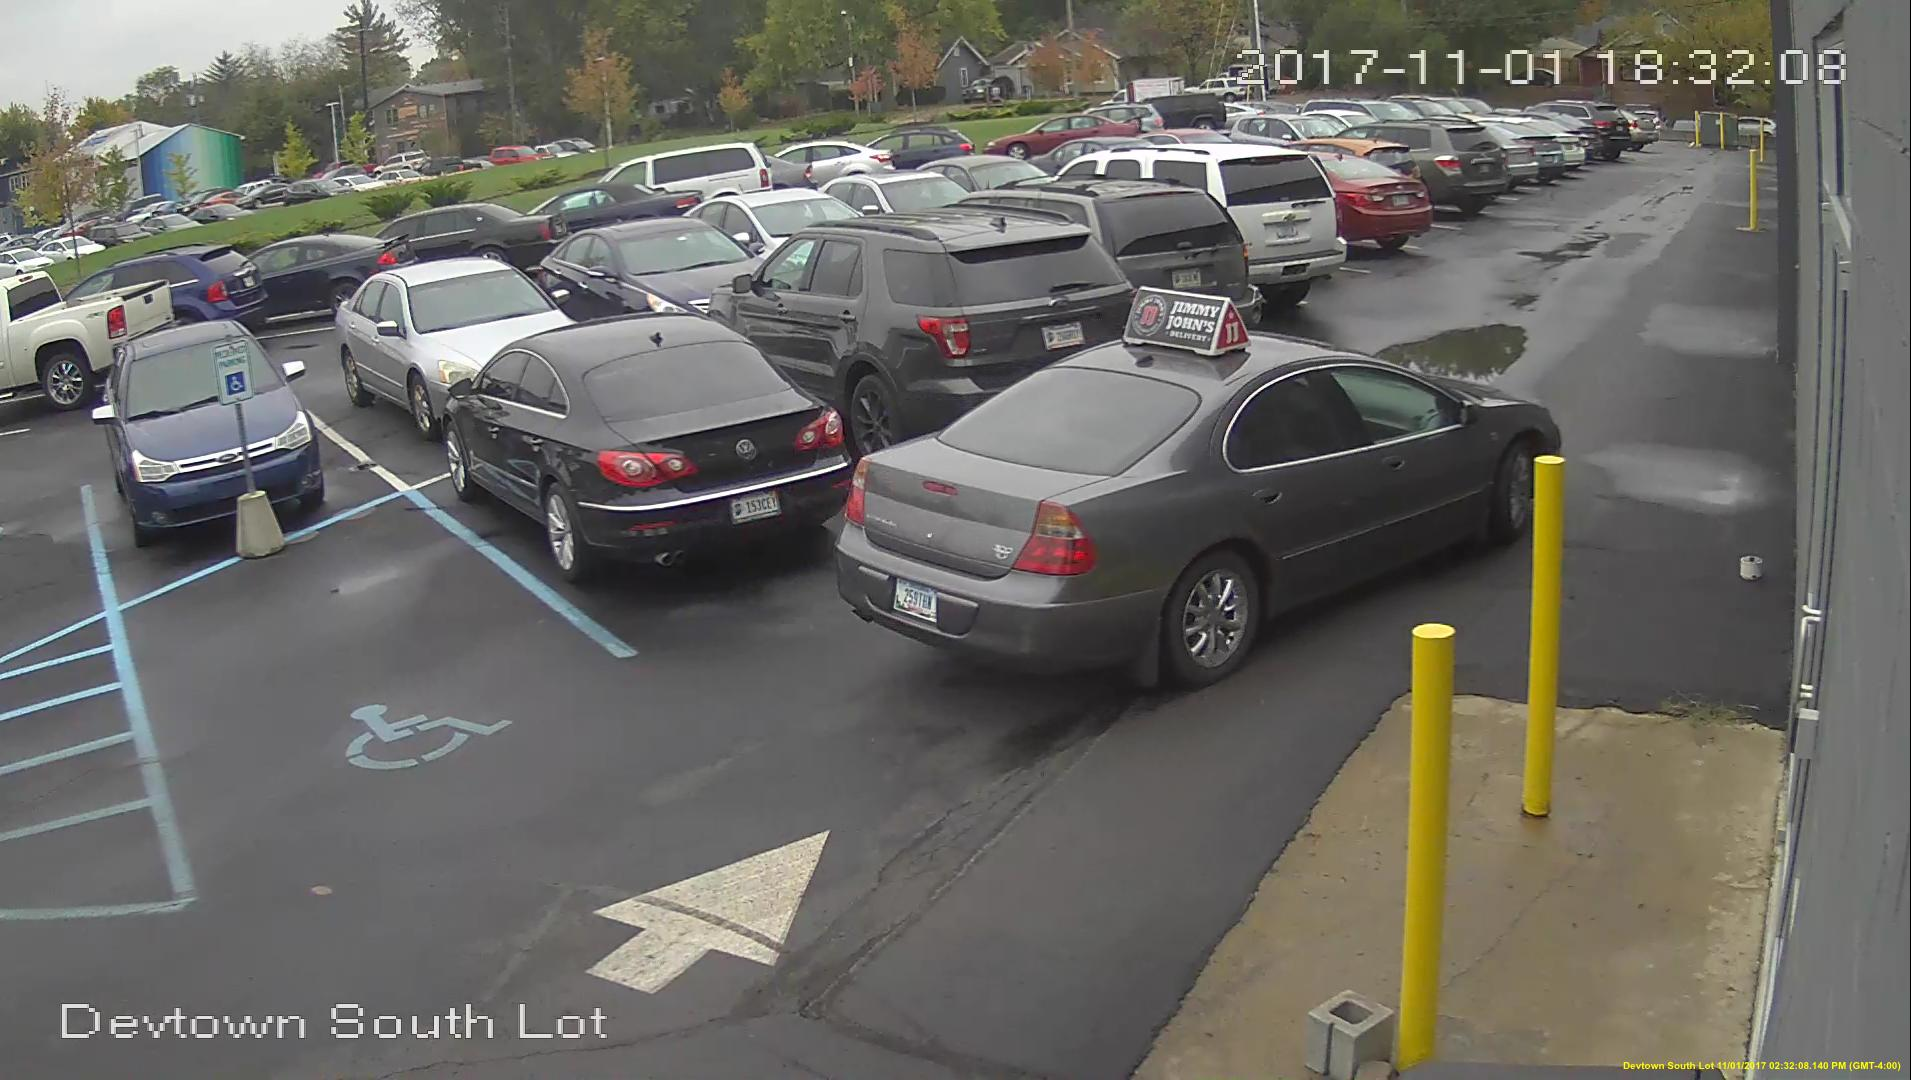jimmy_johns: (1120, 285, 1248, 357)
